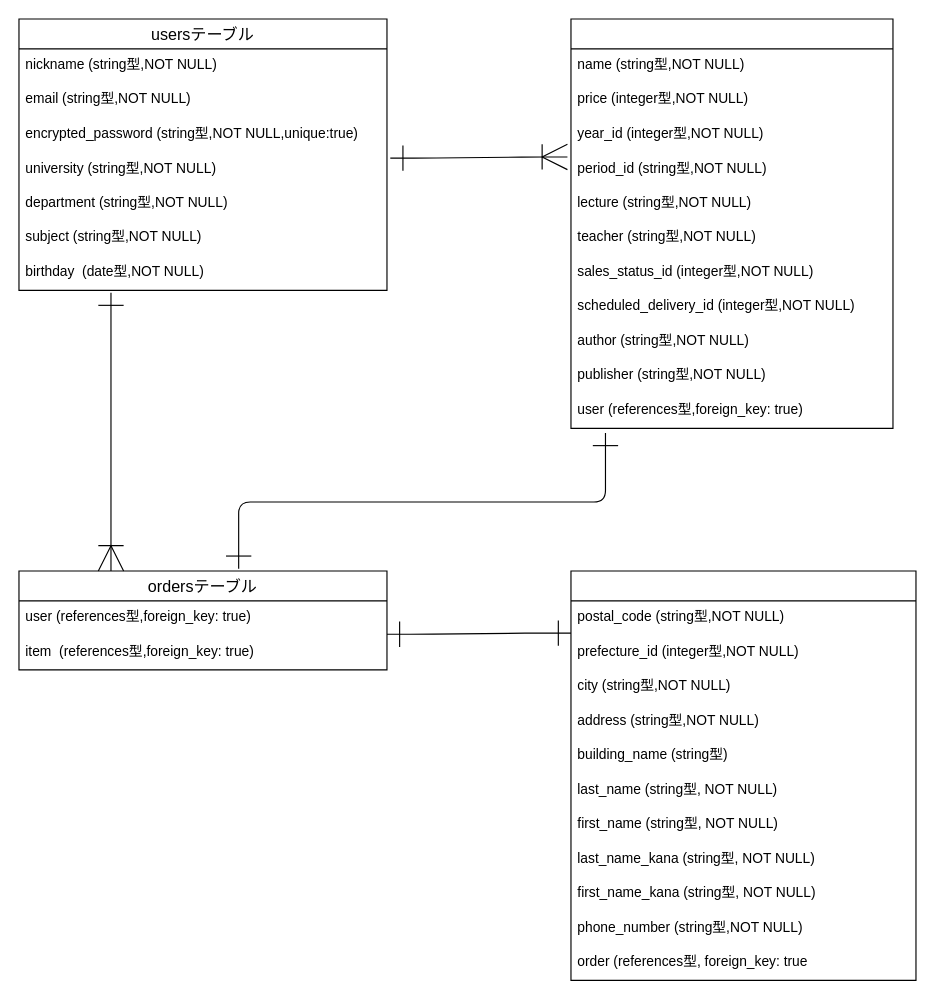
The diagram is 935 pixels wide and 999 high, and some of its shapes have lost their labels. The box of each missing label's shape, as (x1, y1, x2, y2) in pixels:
addressesテーブル: (570, 570, 916, 980)
itemsテーブル: (570, 18, 893, 428)
